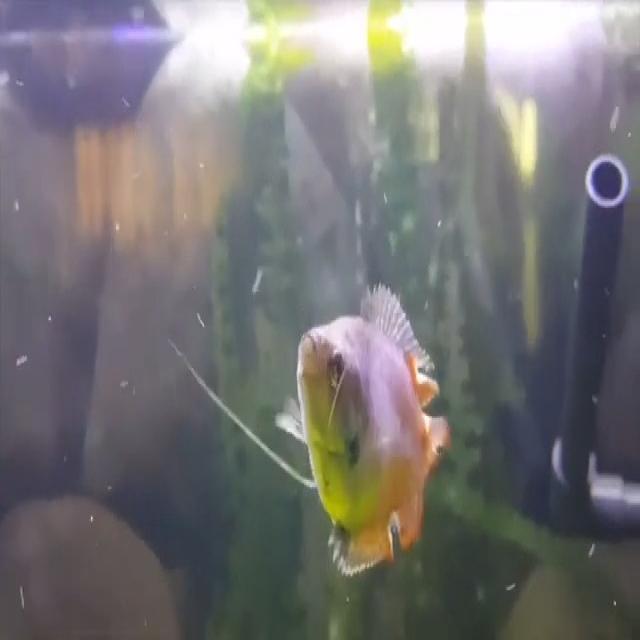fish: (285, 280, 454, 576)
